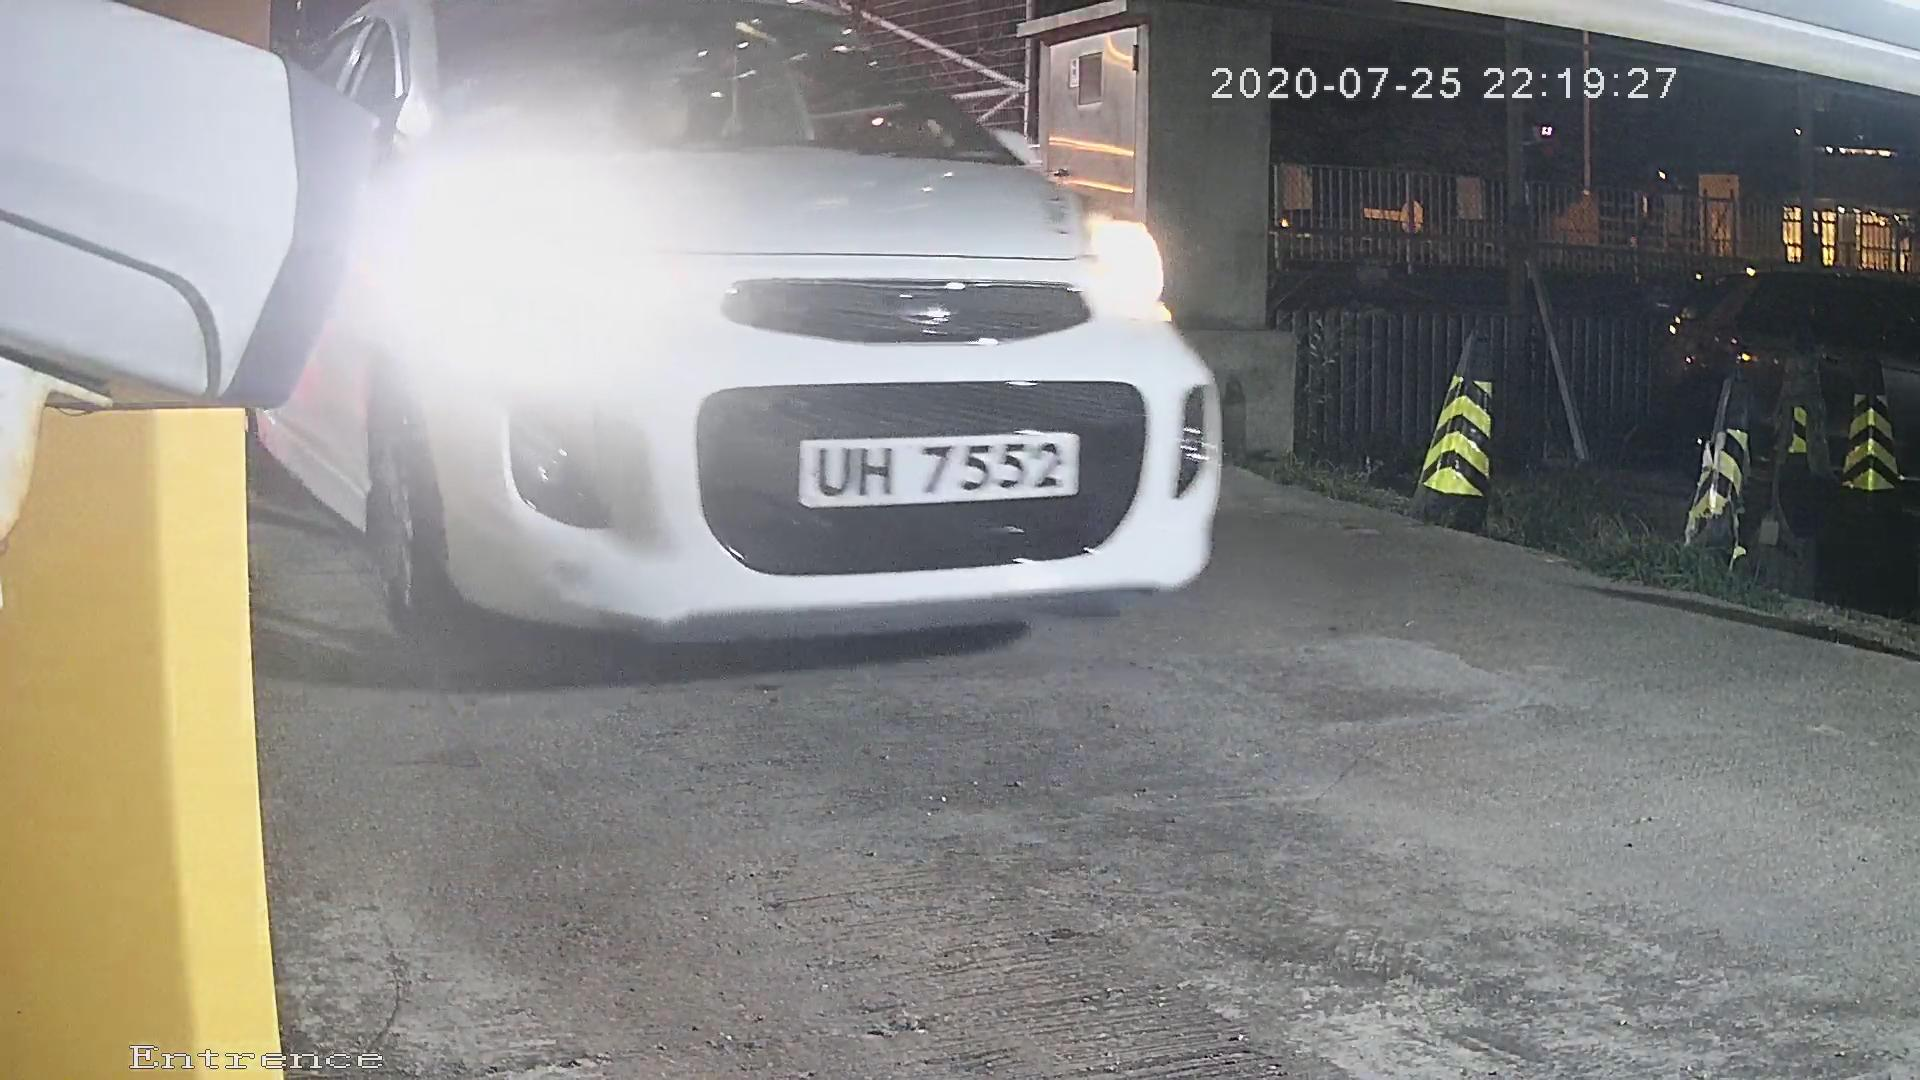License Plate: (798, 420, 1072, 516)
